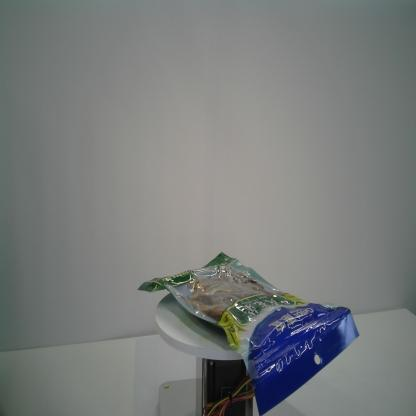Dried Food: (136, 251, 360, 416)
